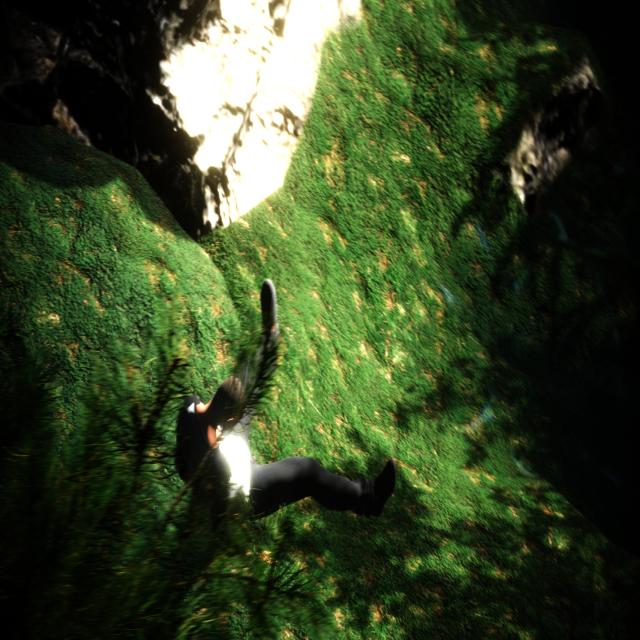Human: (168, 272, 398, 561)
